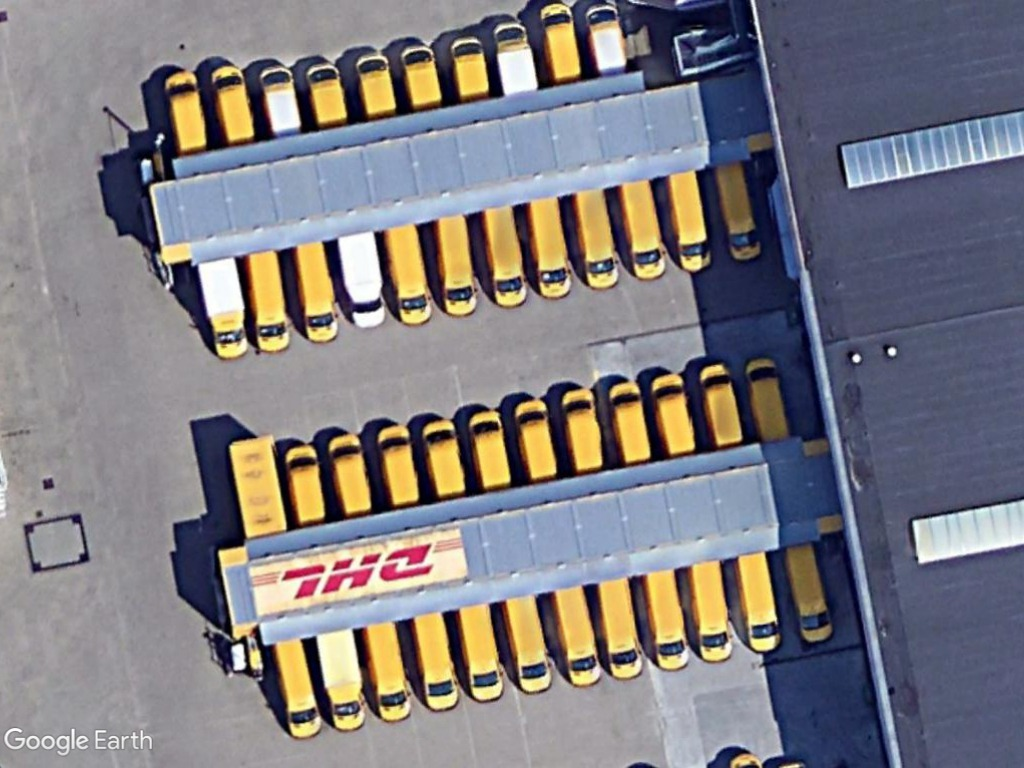van: (311, 629, 371, 735), (193, 258, 253, 363), (594, 570, 647, 684), (522, 193, 575, 302), (334, 228, 390, 330), (551, 583, 603, 691), (362, 620, 416, 724), (500, 593, 555, 694), (478, 204, 530, 310), (291, 241, 343, 347), (270, 637, 323, 741), (663, 169, 716, 272), (784, 542, 837, 645), (619, 176, 669, 284), (245, 249, 295, 357), (455, 602, 507, 705), (383, 221, 434, 326), (572, 185, 622, 292), (687, 557, 737, 664), (644, 567, 694, 674), (713, 163, 767, 262), (411, 609, 460, 715), (736, 549, 785, 653), (433, 213, 481, 318), (648, 371, 704, 459), (465, 406, 518, 495), (743, 354, 794, 444), (698, 359, 748, 450), (419, 414, 470, 503), (326, 431, 377, 518), (163, 67, 212, 156), (558, 386, 606, 475), (512, 394, 559, 484), (206, 61, 256, 145), (607, 379, 655, 465), (376, 423, 425, 507), (285, 442, 332, 529), (535, 0, 583, 82), (491, 17, 540, 94), (256, 60, 304, 136), (581, 0, 630, 74), (396, 40, 443, 111), (354, 49, 400, 118), (305, 58, 350, 128), (448, 30, 491, 101)
